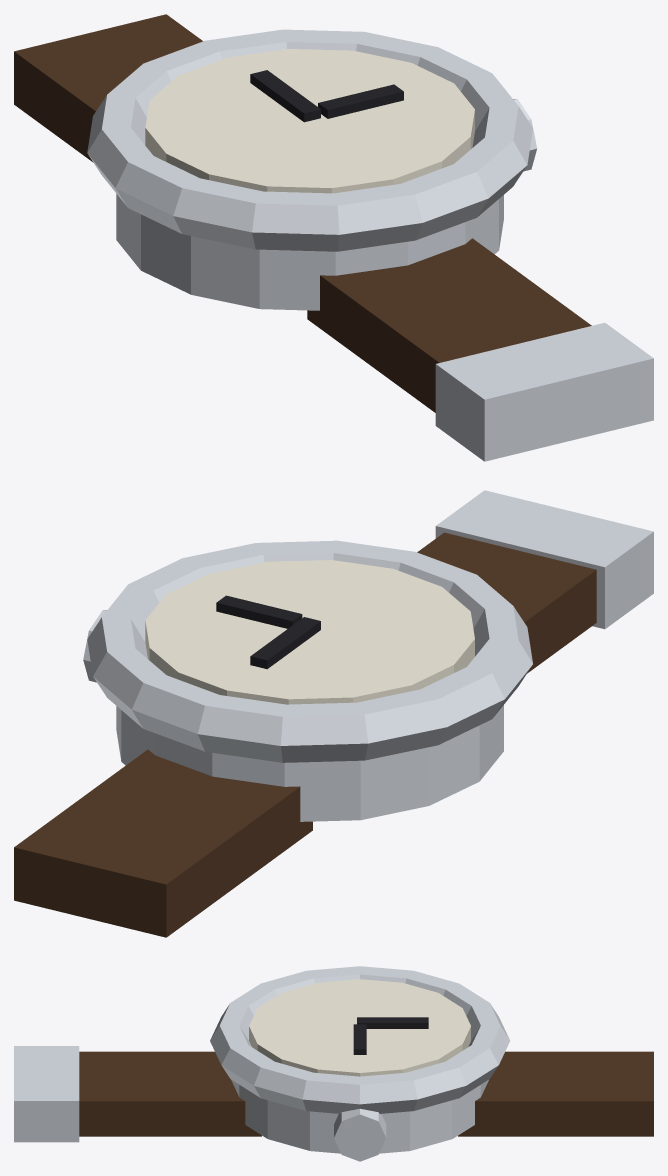
The model's file is watch.glb.
3 views of the same model, one above another, from view 1: azimuth 30°, elevation 25°; view 2: azimuth 150°, elevation 25°; view 3: azimuth 270°, elevation 25° (orthographic). The views are drawn at different scales.
Visible parts, largest first — view 1: watch; view 2: watch; view 3: watch.
Boxes of the visible parts, bbox=[...] form: watch: bbox=[14, 14, 653, 461]; watch: bbox=[14, 490, 653, 937]; watch: bbox=[14, 966, 653, 1161].
Size of the model in its own units: 0.0475 by 0.016 by 0.098.
